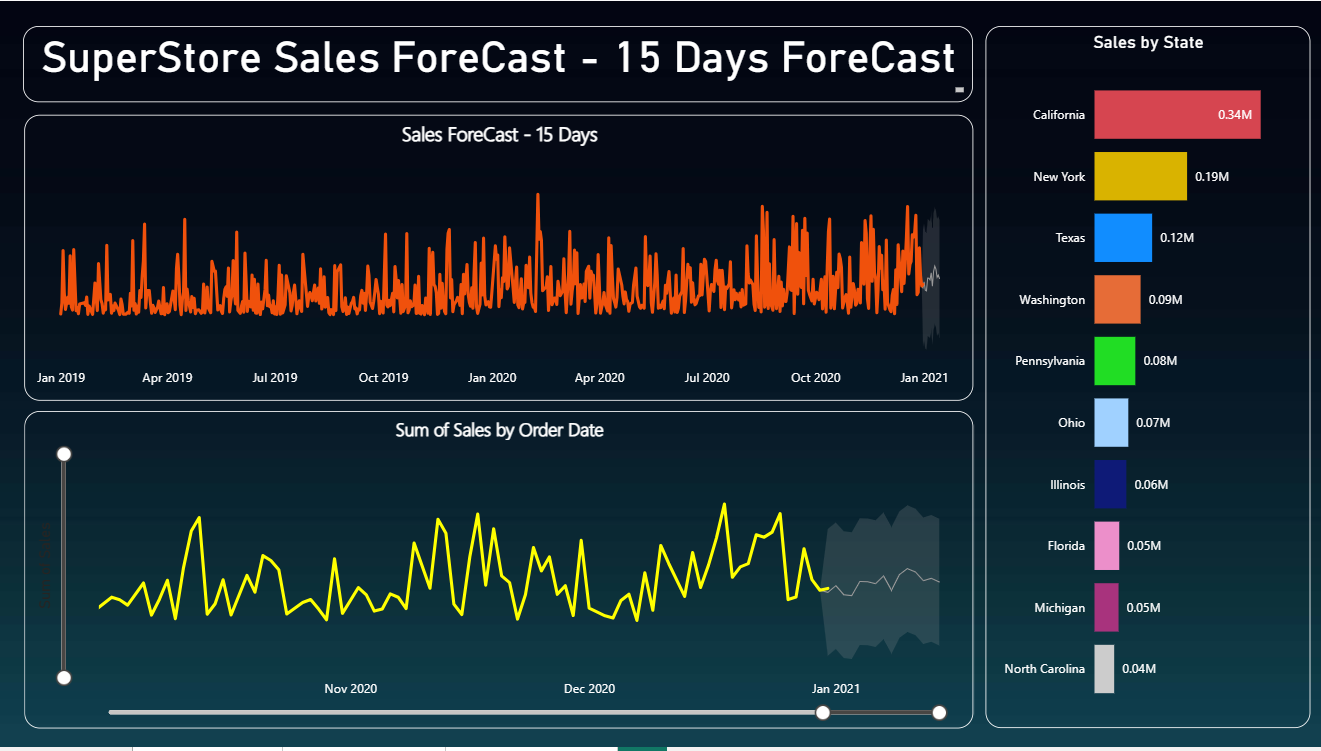

The dashboard page shown, as its layout file describes it:
{"tool":"powerbi","page":{"name":"Sale ForeCasting","canvas":[1280,720],"ordinal":1},"visuals":[{"type":"lineChart","title":"Sales ForeCast - 15 Days","fields":{"Y":["Sum(SuperStore_Sales_Dataset.Sales)"],"Category":["SuperStore_Sales_Dataset.Order Date"]},"box":[25.9,109.3,916.1,276.1],"z":0},{"type":"lineChart","fields":{"Y":["Sum(SuperStore_Sales_Dataset.Sales)"],"Category":["SuperStore_Sales_Dataset.Order Date"]},"box":[25.9,395.5,916.1,306.3],"z":1000},{"type":"clusteredBarChart","title":"Sales by State","fields":{"Y":["Sum(SuperStore_Sales_Dataset.Sales)"],"Category":["SuperStore_Sales_Dataset.State"]},"box":[953.5,24.4,313.5,677.4],"z":2000},{"type":"textbox","title":"SuperStore Sales ForeCast - 15 Days ForeCast","box":[24.1,24.1,916.9,73.6],"z":3000}]}

Visuals, with their boxes in screenshot pixels (x1, y1, x2, y2), scaled from the page's 1280x720 canvas onto the 1321x751 screenshot:
"Sales ForeCast - 15 Days" lineChart: detection(27, 114, 972, 402)
lineChart - Sum(SuperStore_Sales_Dataset.Sales) x SuperStore_Sales_Dataset.Order Date: detection(27, 413, 972, 732)
"Sales by State" clusteredBarChart: detection(984, 25, 1308, 732)
"SuperStore Sales ForeCast - 15 Days ForeCast" textbox: detection(25, 25, 971, 102)
